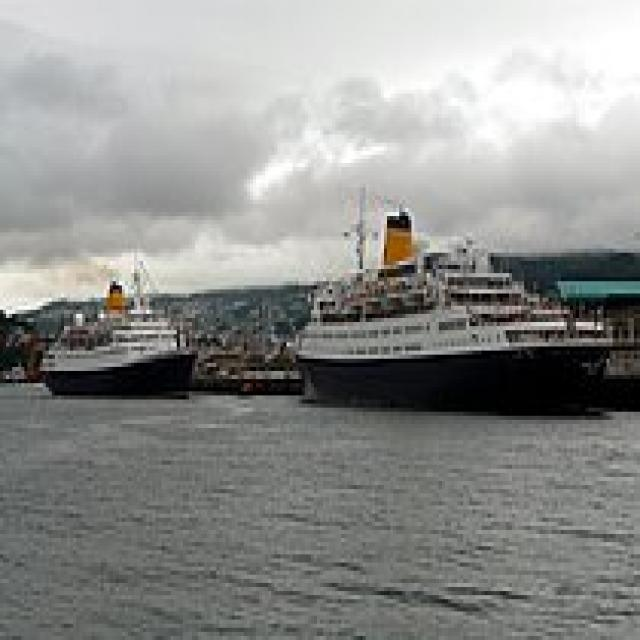Ship: (294, 197, 623, 437), (29, 250, 209, 417)
